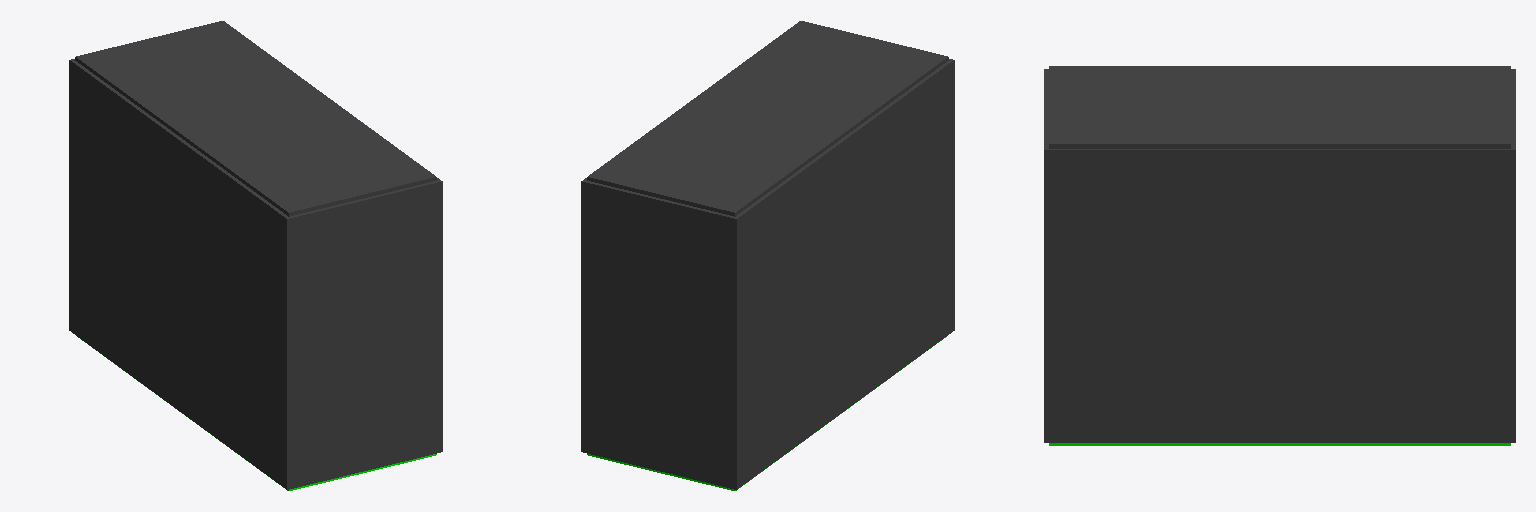
URDF robot description (scene_mingruiyu_7):
<?xml version="1.0" ?>
<!-- =================================================================================== -->
<!-- |    This document was autogenerated by xacro from scene_mingruiyu_7_narrow.xacro | -->
<!-- |    EDITING THIS FILE BY HAND IS NOT RECOMMENDED                                 | -->
<!-- =================================================================================== -->
<robot name="scene_mingruiyu_7">
  <!-- <xacro:include filename="materials.xacro"/> -->
  <material name="dark_gray">
    <color rgba="0.2 0.2 0.2 1.0"/>
  </material>
  <material name="gray">
    <color rgba="0.3 0.3 0.3 1.0"/>
  </material>
  <material name="light_gray">
    <color rgba="0.4 0.4 0.4 1.0"/>
  </material>
  <material name="yellow">
    <color rgba="0.8 0.8 0.0 1.0"/>
  </material>
  <material name="orange">
    <color rgba="1.0 0.5 0.0 1.0"/>
  </material>
  <material name="green">
    <color rgba="0.0 1.0 0.0 1.0"/>
  </material>
  <material name="teal">
    <color rgba="0.0 1.0 1.0 1.0"/>
  </material>
  <material name="black">
    <color rgba="0.15 0.15 0.15 1.0"/>
  </material>
  <!-- <xacro:include filename="materials.xacro"/> -->
  <!-- GROUND PLANE -->
  <link name="ground_plane">
    <visual>
      <geometry>
        <box size="0.4 1 0.01"/>
      </geometry>
      <origin rpy="0 0 0" xyz="0 0 -0.005"/>
      <material name="green"/>
    </visual>
    <collision>
      <geometry>
        <box size="0.4 1 0.01"/>
      </geometry>
      <origin rpy="0 0 0" xyz="0 0 -0.005"/>
    </collision>
  </link>
  <!-- Left Wall -->
  <link name="cuboid_left_wall">
    <visual>
      <geometry>
        <box size="0.01 1.02 0.7"/>
      </geometry>
      <origin rpy="0 0 0" xyz="0 0 0.35"/>
      <material name="gray"/>
    </visual>
    <collision>
      <geometry>
        <box size="0.01 1.02 0.7"/>
      </geometry>
      <origin rpy="0 0 0" xyz="0 0 0.35"/>
    </collision>
  </link>
  <joint name="cuboid_left_wall_joint" type="fixed">
    <parent link="ground_plane"/>
    <child link="cuboid_left_wall"/>
    <origin rpy="0 0 0" xyz="-0.20500000000000002 0 0"/>
  </joint>
  <!-- Right Wall -->
  <link name="cuboid_right_wall">
    <visual>
      <geometry>
        <box size="0.01 1.02 0.7"/>
      </geometry>
      <origin rpy="0 0 0" xyz="0 0 0.35"/>
      <material name="gray"/>
    </visual>
    <collision>
      <geometry>
        <box size="0.01 1.02 0.7"/>
      </geometry>
      <origin rpy="0 0 0" xyz="0 0 0.35"/>
    </collision>
  </link>
  <joint name="cuboid_right_wall_joint" type="fixed">
    <parent link="ground_plane"/>
    <child link="cuboid_right_wall"/>
    <origin rpy="0 0 0" xyz="0.20500000000000002 0 0"/>
  </joint>
  <!-- Front Wall -->
  <link name="cuboid_front_wall">
    <visual>
      <geometry>
        <box size="0.4 0.01 0.7"/>
      </geometry>
      <origin rpy="0 0 0" xyz="0 0 0.35"/>
      <material name="gray"/>
    </visual>
    <collision>
      <geometry>
        <box size="0.4 0.01 0.7"/>
      </geometry>
      <origin rpy="0 0 0" xyz="0 0 0.35"/>
    </collision>
  </link>
  <joint name="cuboid_front_wall_joint" type="fixed">
    <parent link="ground_plane"/>
    <child link="cuboid_front_wall"/>
    <origin rpy="0 0 0" xyz="0 0.505 0"/>
  </joint>
  <!-- Back Wall -->
  <link name="cuboid_back_wall">
    <visual>
      <geometry>
        <box size="0.4 0.01 0.7"/>
      </geometry>
      <origin rpy="0 0 0" xyz="0 0 0.35"/>
      <material name="gray"/>
    </visual>
    <collision>
      <geometry>
        <box size="0.4 0.01 0.7"/>
      </geometry>
      <origin rpy="0 0 0" xyz="0 0 0.35"/>
    </collision>
  </link>
  <joint name="cuboid_back_wall_joint" type="fixed">
    <parent link="ground_plane"/>
    <child link="cuboid_back_wall"/>
    <origin rpy="0 0 0" xyz="0 -0.505 0"/>
  </joint>
  <!-- Top Wall -->
  <link name="cuboid_top_wall">
    <visual>
      <geometry>
        <box size="0.4 1 0.01"/>
      </geometry>
      <origin rpy="0 0 0" xyz="0 0 0.005"/>
      <material name="gray"/>
    </visual>
    <collision>
      <geometry>
        <box size="0.4 1 0.01"/>
      </geometry>
      <origin rpy="0 0 0" xyz="0 0 0.005"/>
    </collision>
  </link>
  <joint name="cuboid_top_wall_joint" type="fixed">
    <parent link="ground_plane"/>
    <child link="cuboid_top_wall"/>
    <origin rpy="0 0 0" xyz="0 0 0.7"/>
  </joint>
  <!-- Back INNER Wall -->
  <link name="cuboid_back_inner_wall">
    <visual>
      <geometry>
        <box size="0.01 0.4  0.7"/>
      </geometry>
      <origin rpy="0 0 0" xyz="0 -0.2 0.35"/>
      <material name="orange"/>
    </visual>
    <collision>
      <geometry>
        <box size="0.01 0.4  0.7"/>
      </geometry>
      <origin rpy="0 0 0" xyz="0 -0.2 0.35"/>
    </collision>
  </link>
  <joint name="cuboid_back_inner_wall_joint" type="fixed">
    <parent link="ground_plane"/>
    <child link="cuboid_back_inner_wall"/>
    <origin rpy="0 0 0" xyz="0 -0.1 0"/>
  </joint>
  <!-- Front INNER Wall -->
  <link name="cuboid_front_inner_wall">
    <visual>
      <geometry>
        <box size="0.01 0.4  0.7"/>
      </geometry>
      <origin rpy="0 0 0" xyz="0 0.2 0.35"/>
      <material name="orange"/>
    </visual>
    <collision>
      <geometry>
        <box size="0.01 0.4  0.7"/>
      </geometry>
      <origin rpy="0 0 0" xyz="0 0.2 0.35"/>
    </collision>
  </link>
  <joint name="cuboid_front_inner_wall_joint" type="fixed">
    <parent link="ground_plane"/>
    <child link="cuboid_front_inner_wall"/>
    <origin rpy="0 0 0" xyz="0 0.1 0"/>
  </joint>
  <link name="pole_1_root_link">
    <visual>
      <geometry>
        <box size="0.06 0.06 0.4"/>
      </geometry>
      <origin rpy="0 0 0" xyz="0 0 0.2"/>
      <material name="orange"/>
    </visual>
    <collision>
      <geometry>
        <box size="0.06 0.06 0.4"/>
      </geometry>
      <origin rpy="0 0 0" xyz="0 0 0.2"/>
    </collision>
  </link>
  <joint name="pole_1_fixture_joint" type="fixed">
    <parent link="ground_plane"/>
    <child link="pole_1_root_link"/>
    <origin rpy="0 0 0" xyz="0.0 0.0 0.0"/>
  </joint>
  <!-- ====================== POLE 1 : END ====================== -->
</robot>

--- Facts derived from the render (not from the file) ---
Views: 3 orthographic renders of the robot side by side, from view 1: azimuth 30°, elevation 25°; view 2: azimuth 150°, elevation 25°; view 3: azimuth 270°, elevation 25°.
Model scene_mingruiyu_7 with 9 links and 8 joints (8 fixed), rooted at ground_plane, posed every joint at zero.
Visible links, largest first — view 1: cuboid_left_wall, cuboid_back_wall, cuboid_top_wall, cuboid_right_wall; view 2: cuboid_left_wall, cuboid_front_wall, cuboid_top_wall, cuboid_right_wall; view 3: cuboid_right_wall, cuboid_top_wall, ground_plane.
Link boxes in pixels (x1,y1,x2,y2): cuboid_left_wall: (69,59,290,489); cuboid_back_wall: (290,181,438,488); cuboid_top_wall: (75,21,436,216); cuboid_right_wall: (437,178,442,452); cuboid_left_wall: (733,59,954,489); cuboid_front_wall: (585,181,733,488); cuboid_top_wall: (587,21,948,216); cuboid_right_wall: (581,178,586,452); cuboid_right_wall: (1044,149,1515,442); cuboid_top_wall: (1049,66,1510,148); ground_plane: (1049,443,1510,445).
Bounding box of the posed robot: 0.42 × 1.02 × 0.72 m (x, y, z).
Geometry: primitives only (box / cylinder / sphere), no mesh files.
